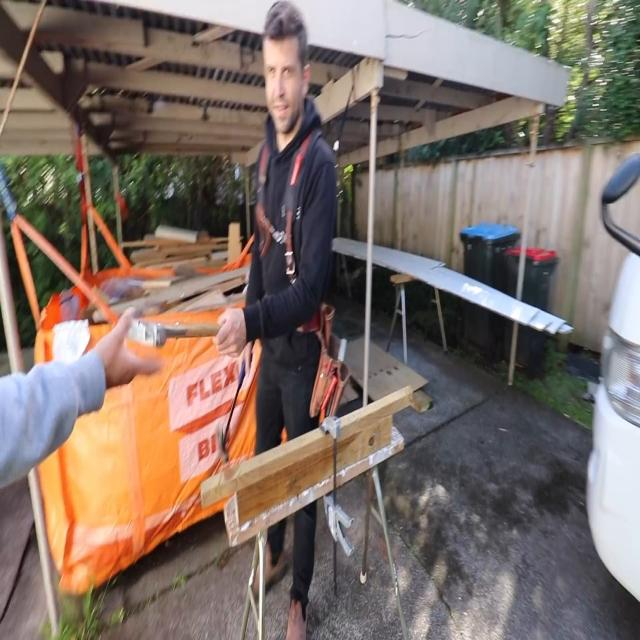hammer: (218, 360, 245, 463), (131, 318, 222, 347)
